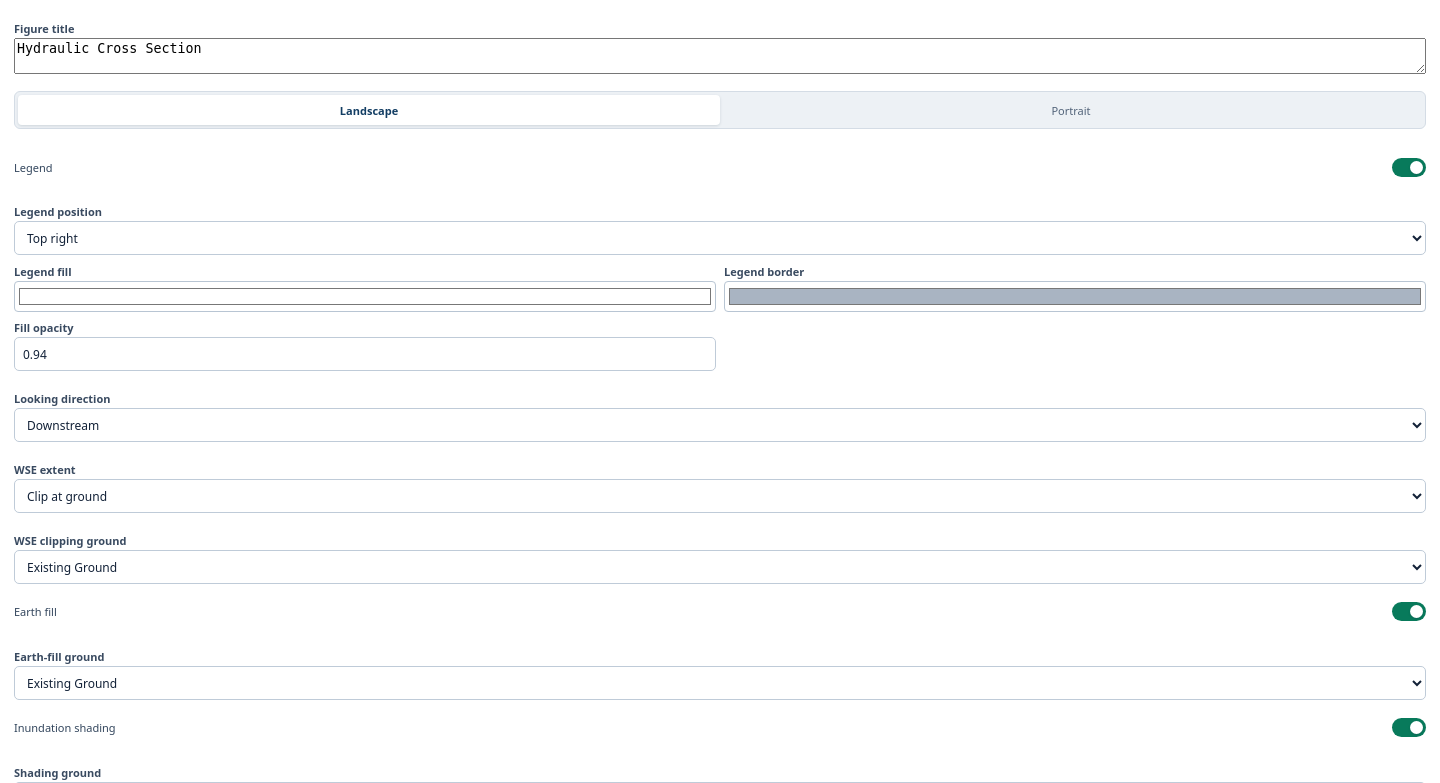
Test: HydraulicProfileSettingsPanel › defaults to clipping WSEs and exposes raw SMS extents as a reversible mode
The image size is (1440, 783).
Expected: the dropdown labelled "WSE extent" shows "Clip at ground", top-left (14, 479), bottom-right (1426, 513)
Select "Proposed Ground" in the dropdown labelled "WSE clipping ground" at [720, 567], box top-left (14, 550), bottom-right (1426, 584)
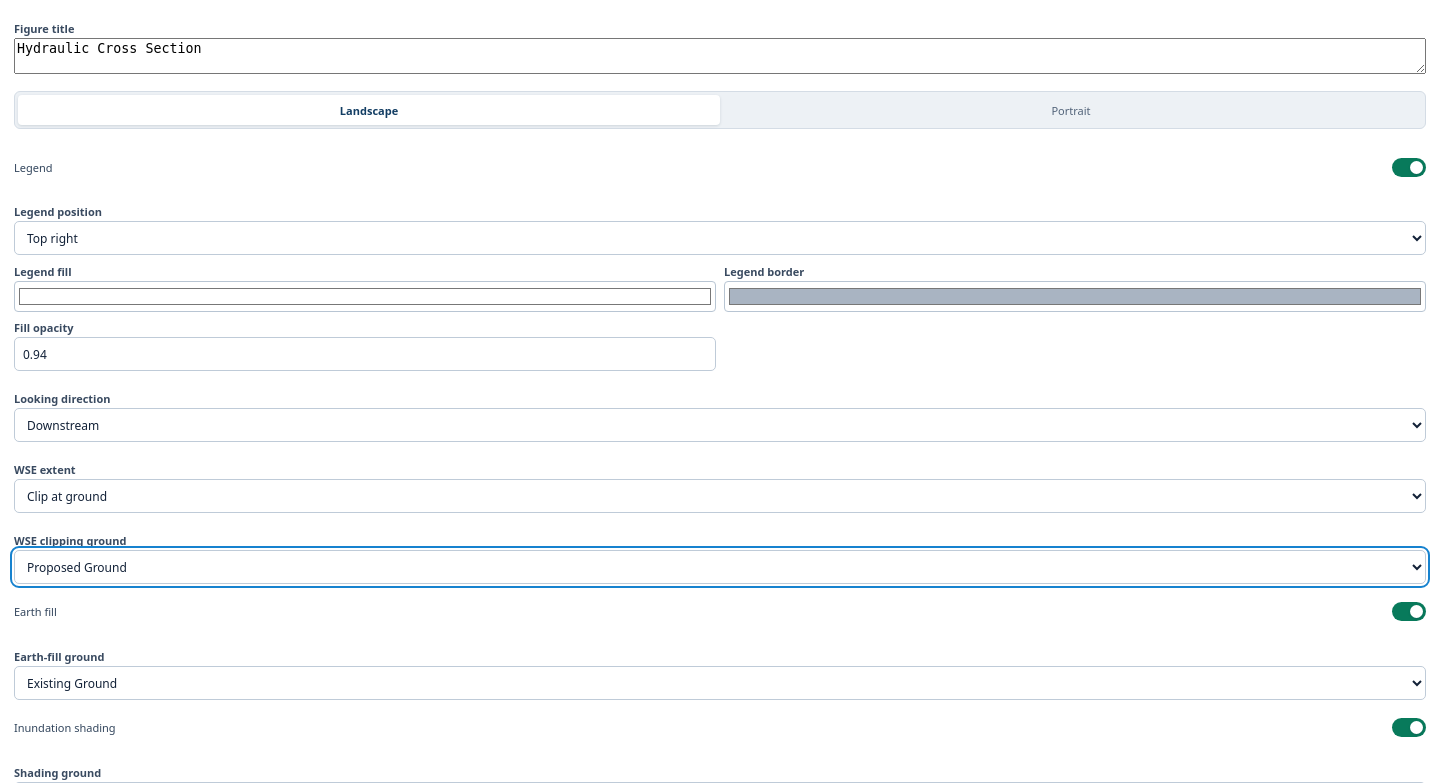
Select "Raw SMS" in the dropdown labelled "WSE extent" at [720, 496], box top-left (14, 479), bottom-right (1426, 513)
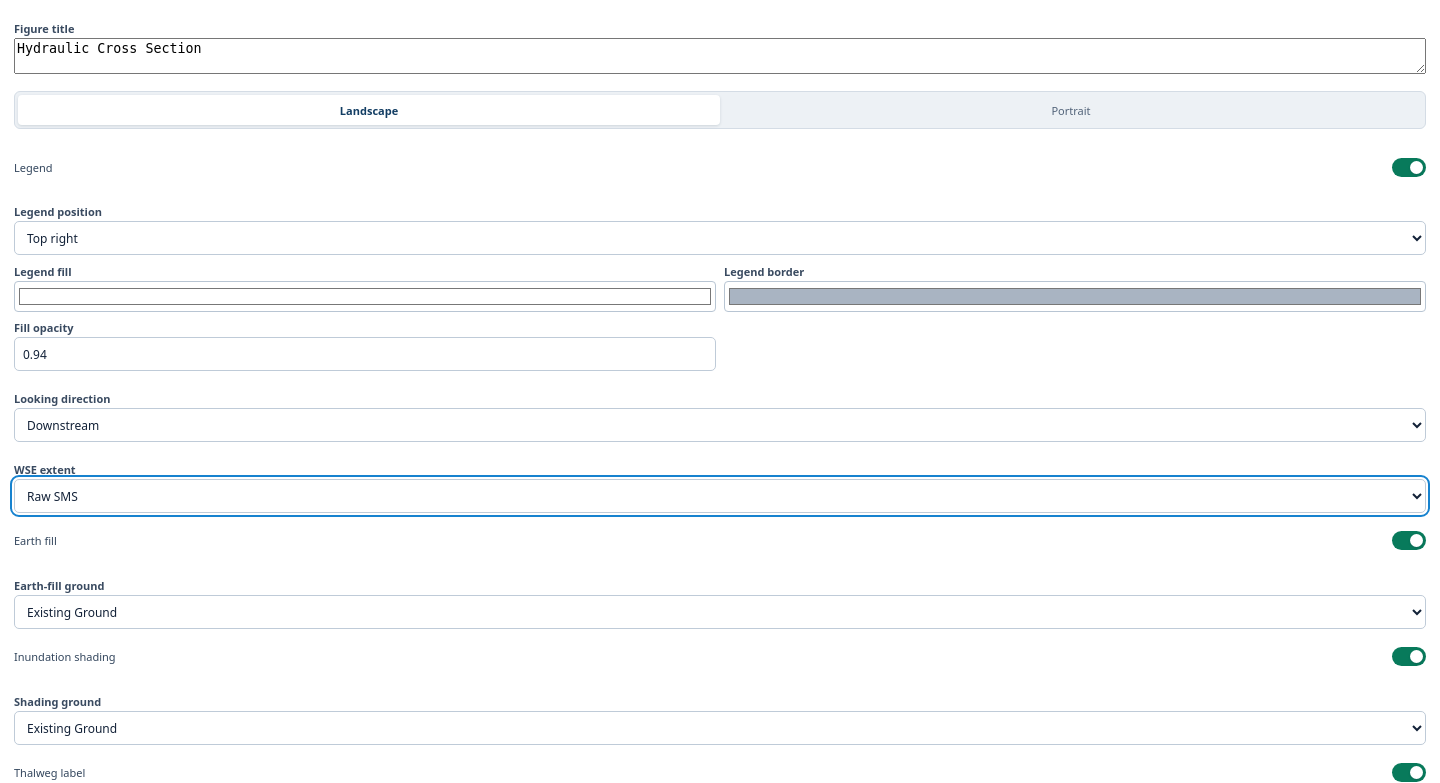
Expected: the text labelled "WSE clipping ground" is gone
